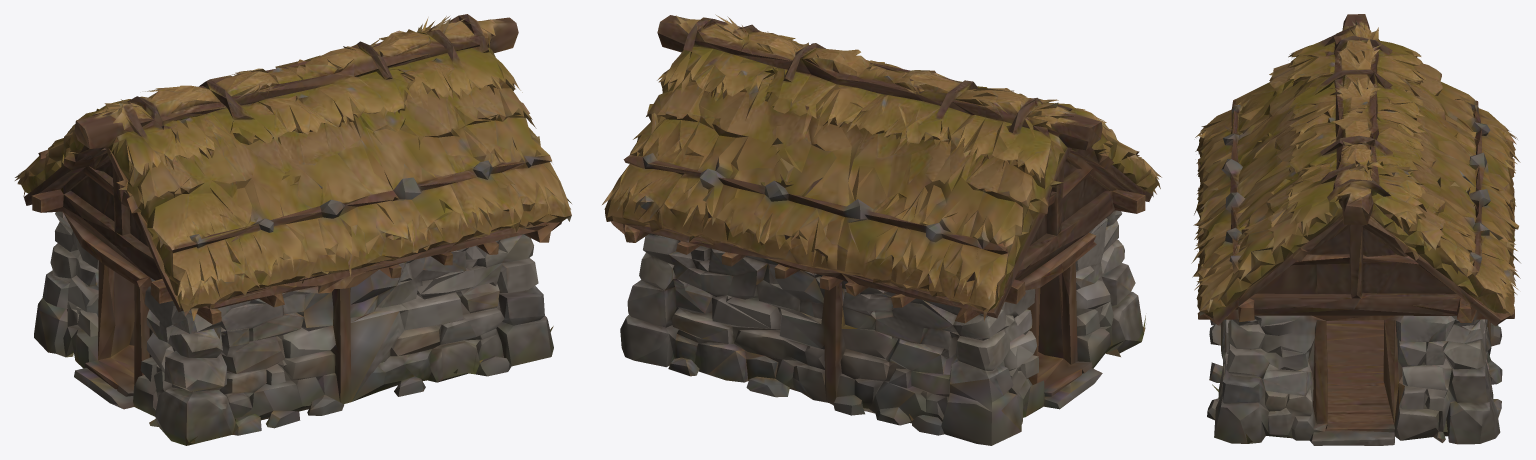
File: storage.glb
3 views of the same model, side by side, from view 1: azimuth 30°, elevation 25°; view 2: azimuth 150°, elevation 25°; view 3: azimuth 270°, elevation 25° (orthographic). The views are drawn at different scales.
Size of the model in its own units: 1.9 by 1.22 by 1.37.
Materials: 1 (1 with a texture image).
